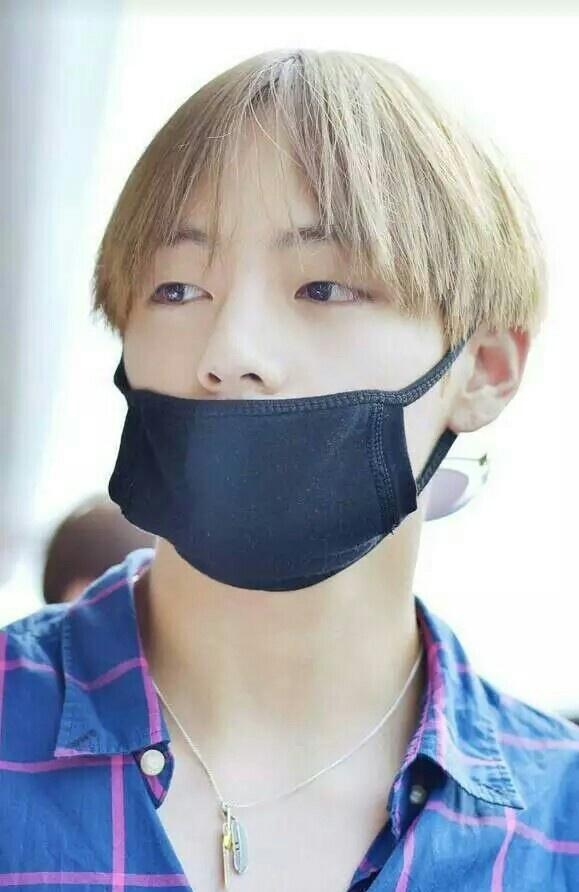WRONG: (100, 213, 464, 577)
